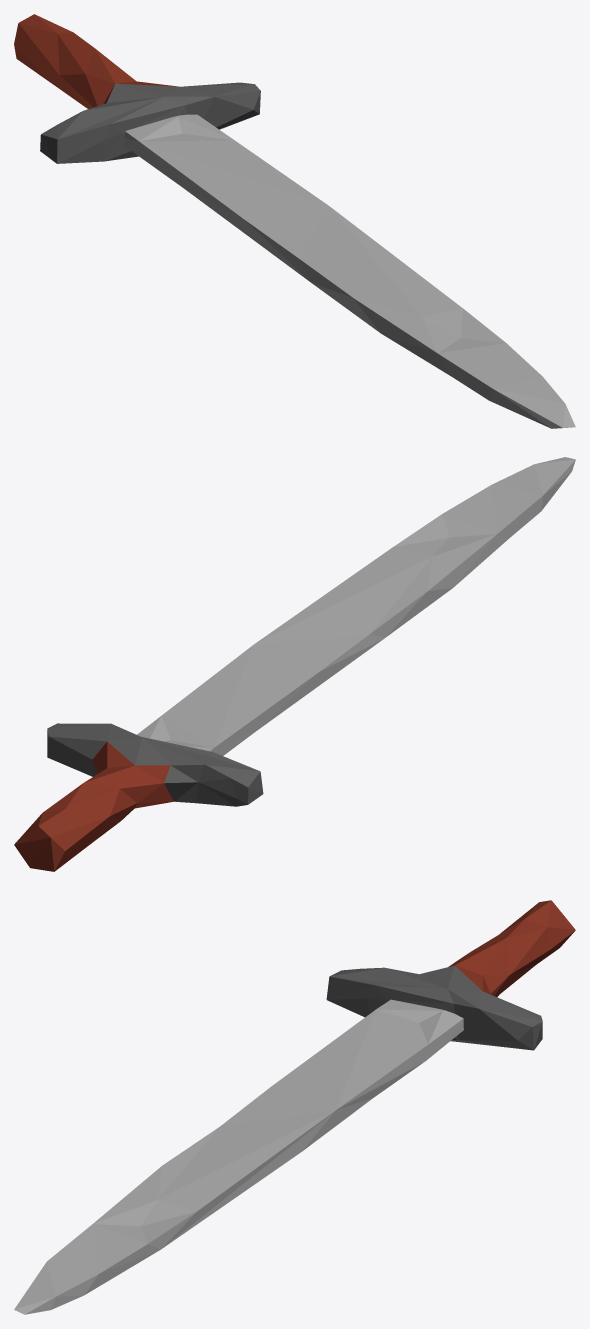
File: Sword_metal.fbx
3 views of the same model, one above another, from view 1: azimuth 30°, elevation 25°; view 2: azimuth 150°, elevation 25°; view 3: azimuth 330°, elevation 25° (orthographic).
Parts seen in each view (by area): view 1: Sword_metal; view 2: Sword_metal; view 3: Sword_metal.
Part boxes in pixels (x1=…): Sword_metal: x1=14, y1=14, x2=575, y2=428; Sword_metal: x1=14, y1=457, x2=575, y2=871; Sword_metal: x1=14, y1=900, x2=575, y2=1314.
Size of the model in its own units: 0.227 by 0.0537 by 1.01.
